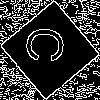C: (25, 25, 74, 66)
